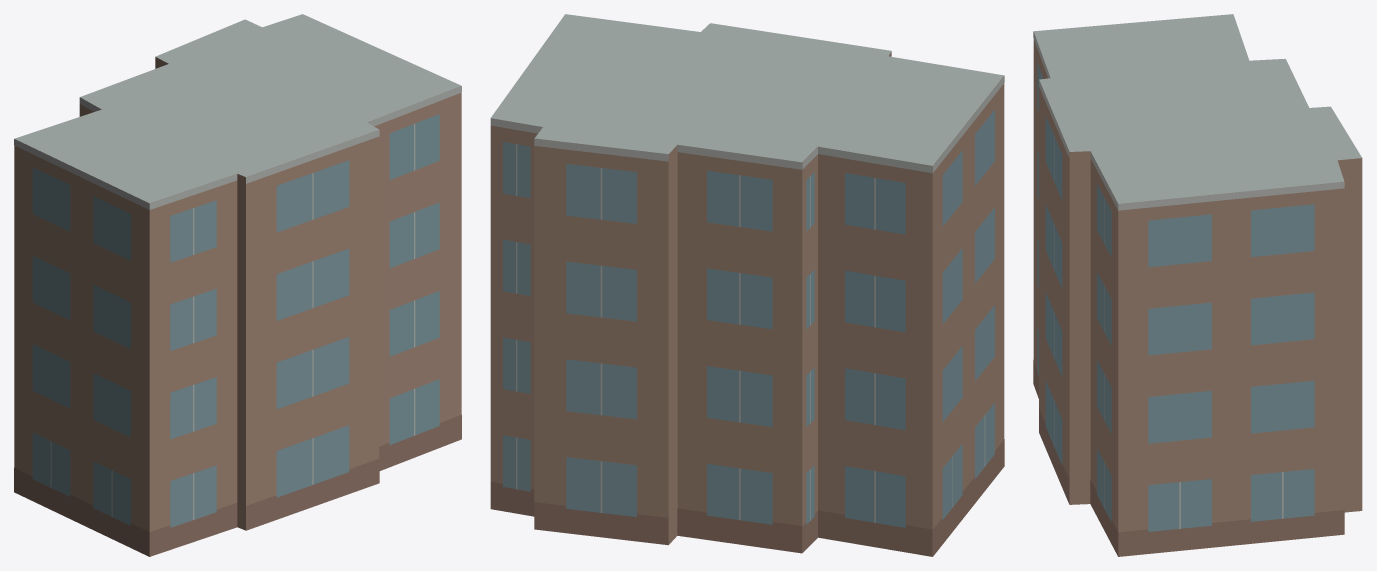
File: survey-upis-32604569.glb
3 renders of one model, left to right at view 1: azimuth 30°, elevation 25°; view 2: azimuth 150°, elevation 25°; view 3: azimuth 270°, elevation 25°, orthographic. The views are drawn at different scales.
Parts seen in each view (by area): view 1: survey-upis-32604569.tmp; view 2: survey-upis-32604569.tmp; view 3: survey-upis-32604569.tmp.
Boxes of the visible parts, x1,y1,x2,y2 form: survey-upis-32604569.tmp: (14,14,461,556); survey-upis-32604569.tmp: (490,14,1004,556); survey-upis-32604569.tmp: (1033,14,1362,556).
Size of the model in its own units: 14.9 by 12.9 by 10.9.
